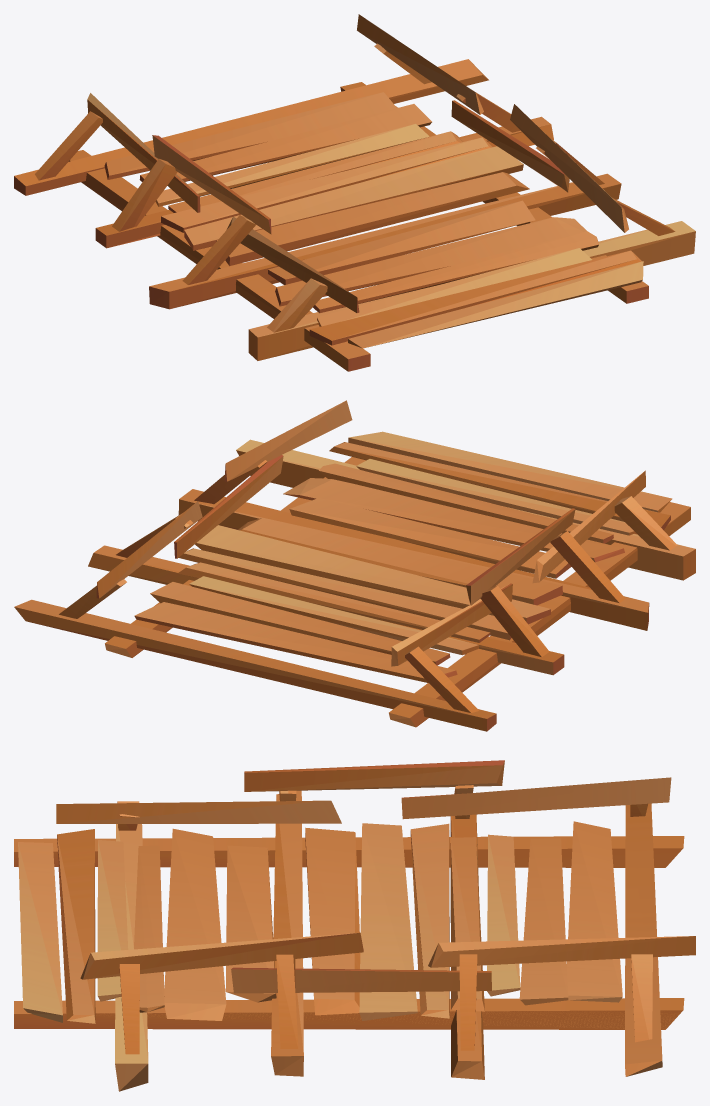
File: GL-Manmade-14-LOD2.fbx
3 renders of one model, top to bottom at view 1: azimuth 30°, elevation 25°; view 2: azimuth 150°, elevation 25°; view 3: azimuth 270°, elevation 25°, orthographic. The views are drawn at different scales.
Visible parts, largest first — view 1: GL_Manmade_14; view 2: GL_Manmade_14; view 3: GL_Manmade_14.
Part boxes in pixels (x1,y1,x2,y2): GL_Manmade_14: [14, 14, 695, 371]; GL_Manmade_14: [14, 400, 695, 731]; GL_Manmade_14: [14, 760, 695, 1091].
Size of the model in its own units: 2.17 by 0.4142 by 2.26.
